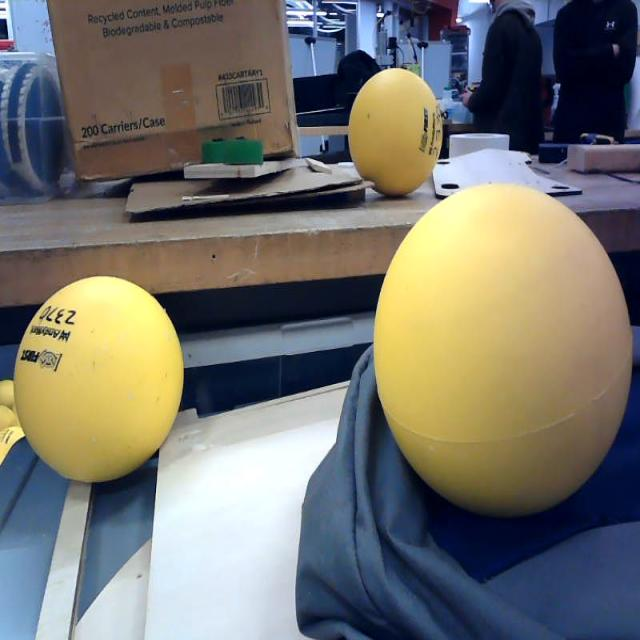Fuel: (374, 184, 632, 516), (14, 276, 184, 483), (349, 68, 443, 197)
